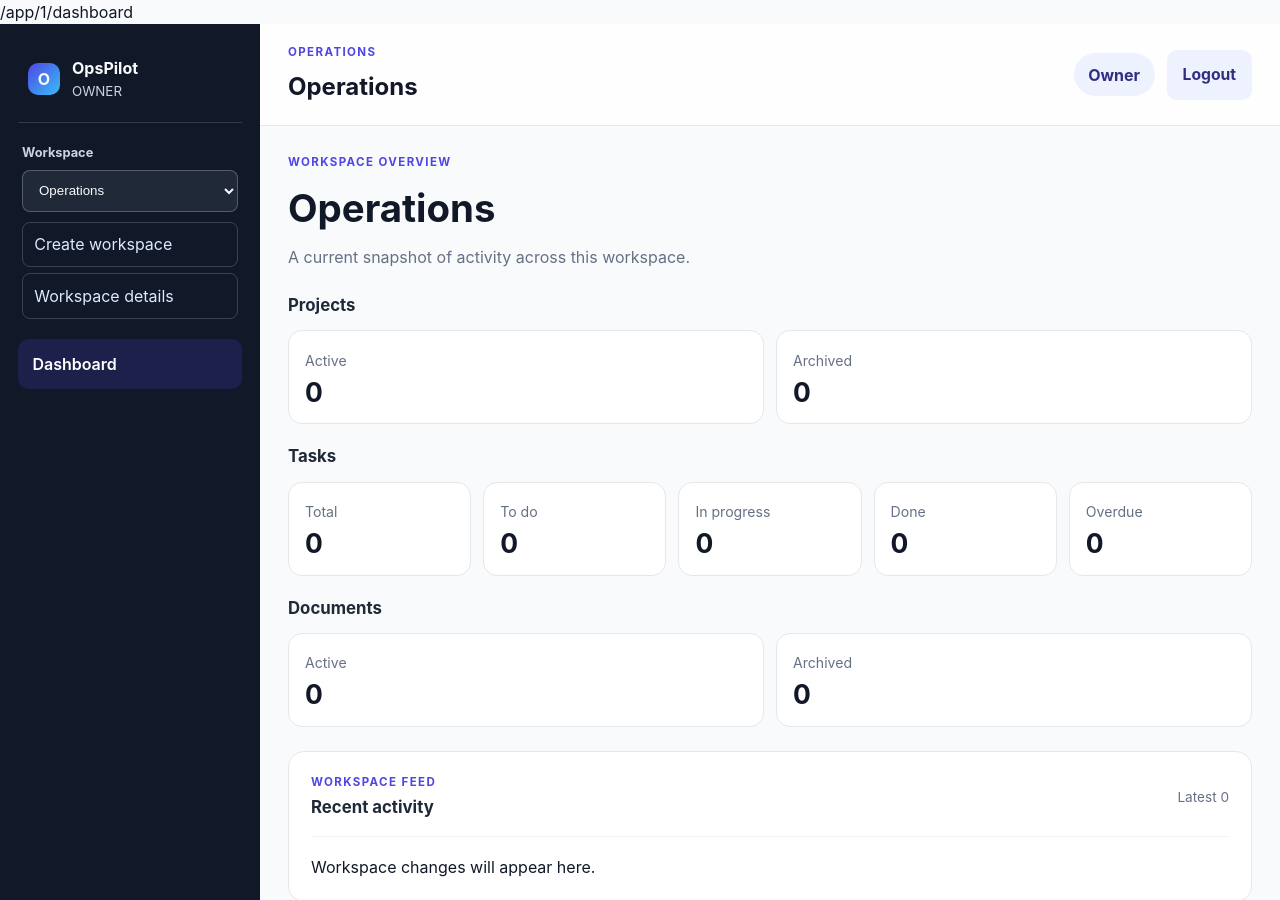
Test: F2 workspace behavior › keeps the rename draft after a server 403
Click the button "Workspace details" at (130, 296), box [22, 273, 238, 319]
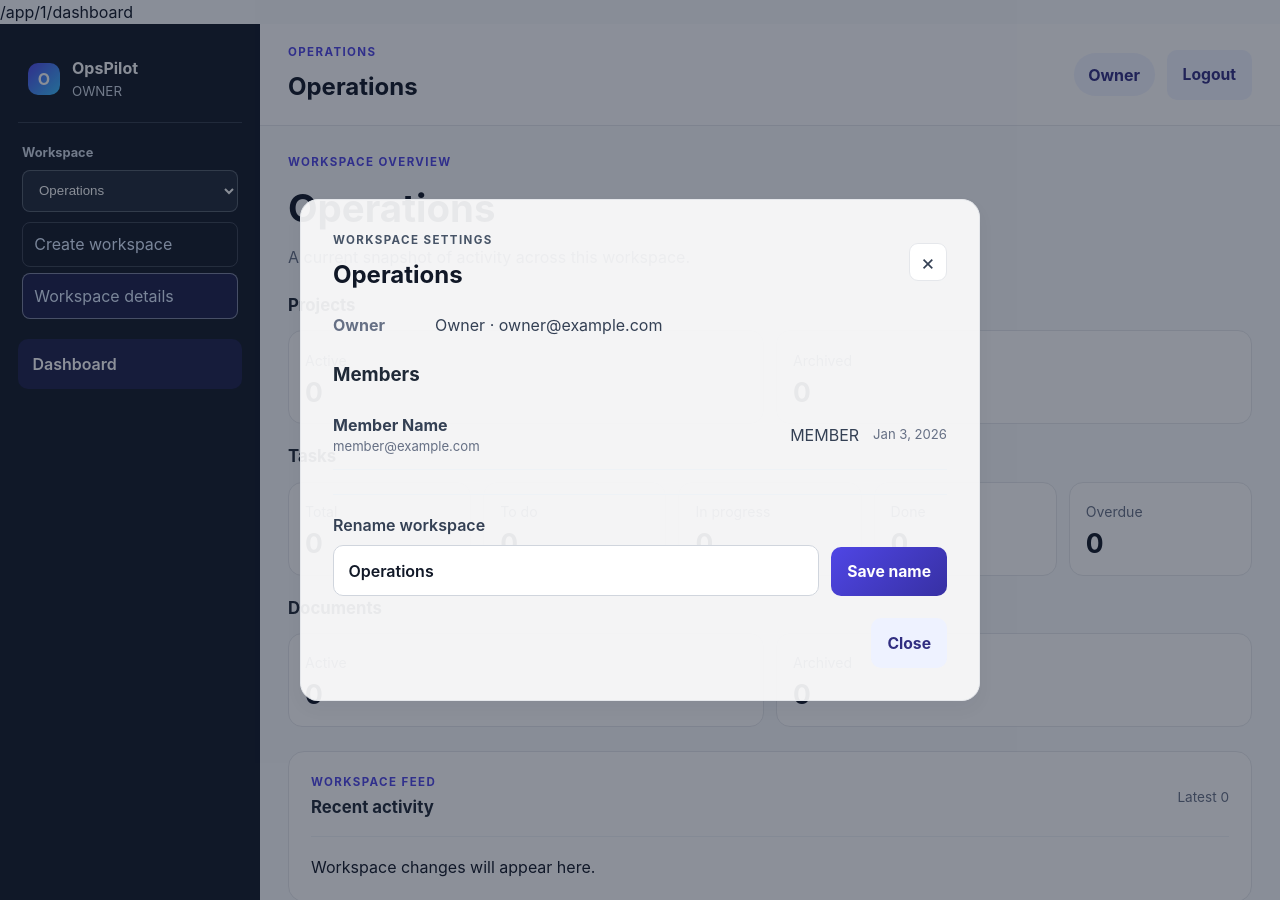
Replace the text in the field labelled "Rename workspace" with "Preserve me" at (576, 571), box [333, 545, 819, 596]
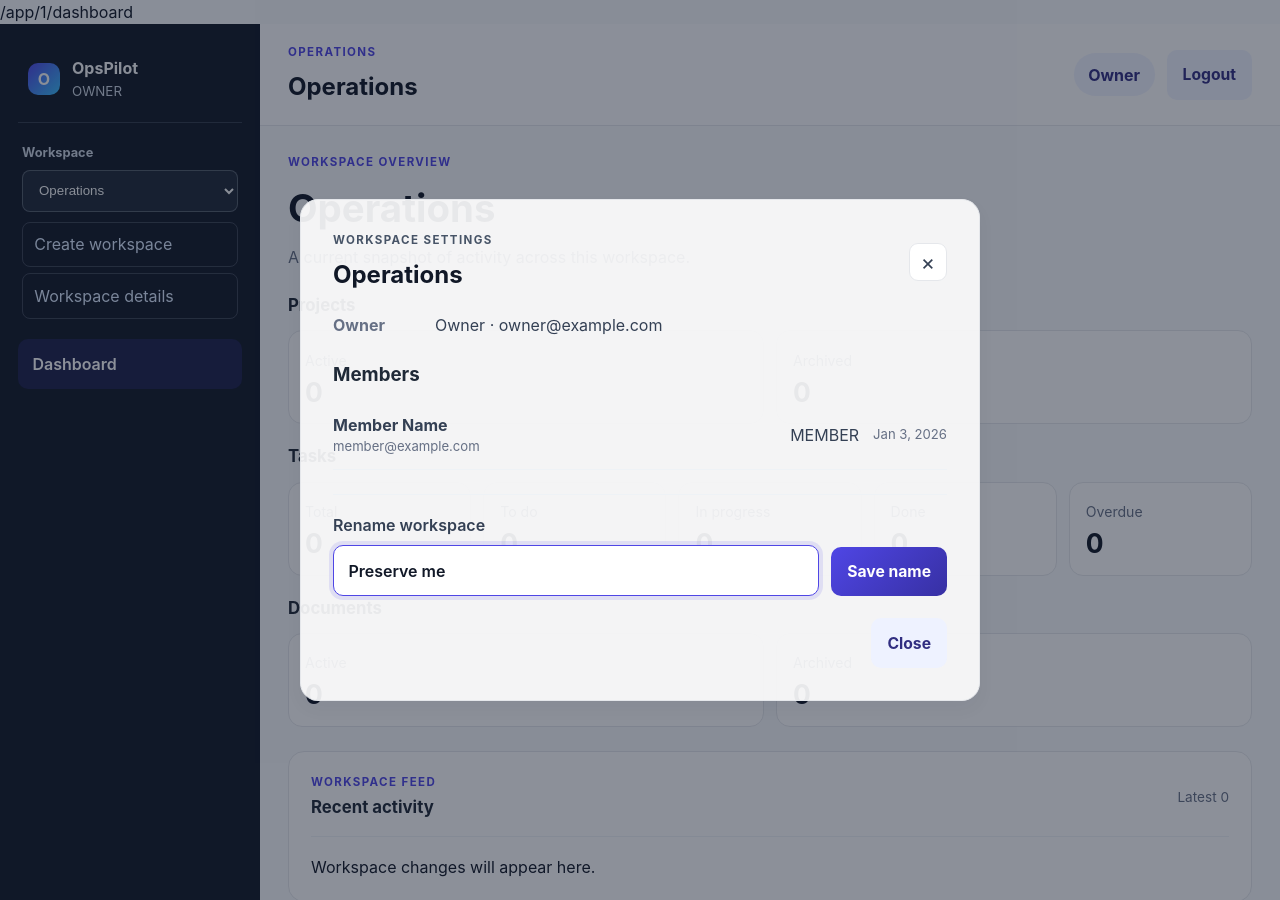
Click the button "Save name" at (889, 572), box [831, 547, 947, 596]
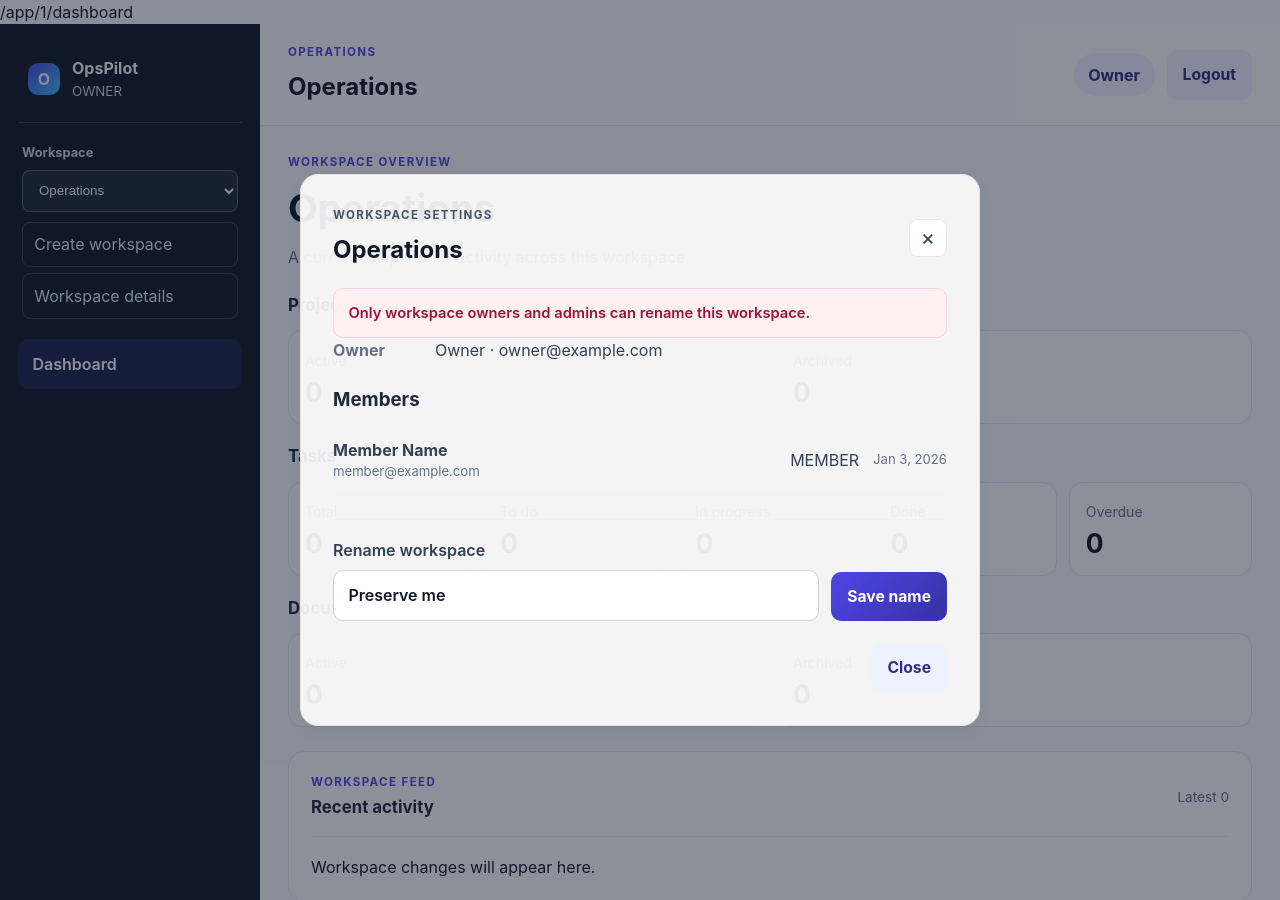
Now the text "Only workspace owners and admins can rename this workspace." is shown, box [333, 288, 947, 338]
